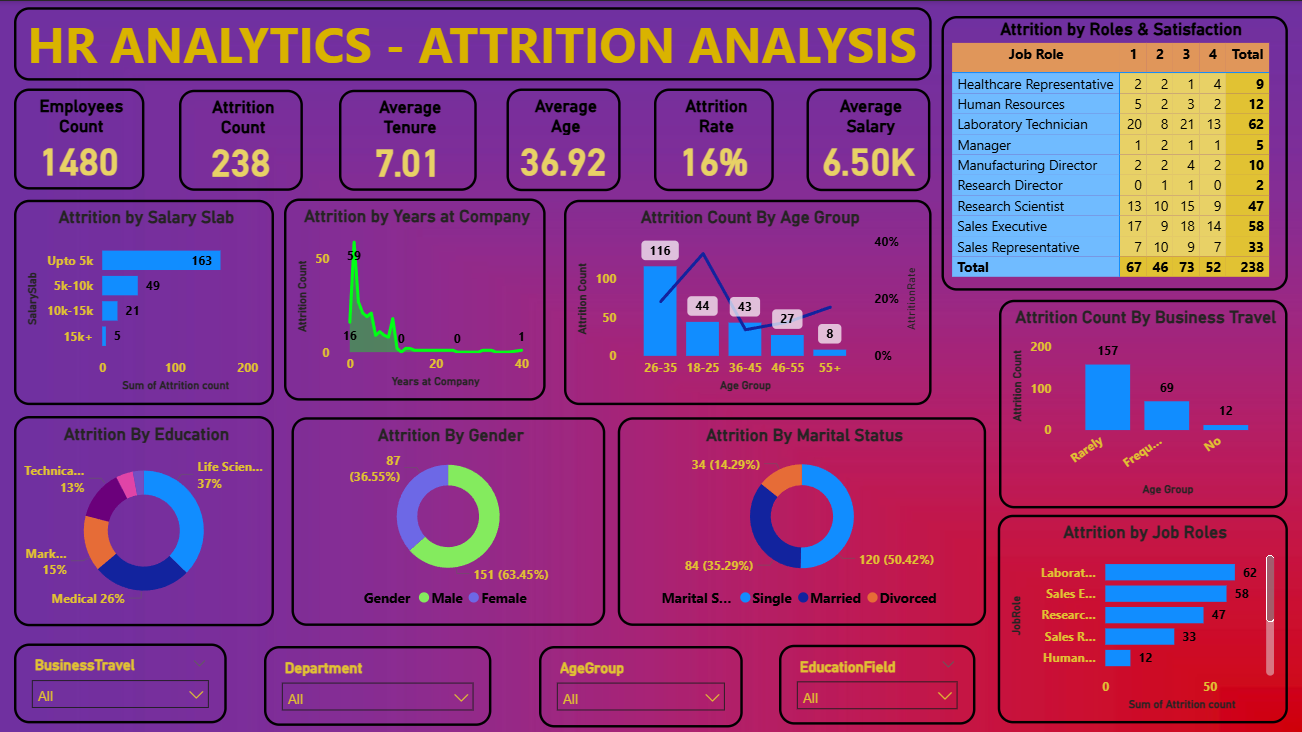

The dashboard page shown, as its layout file describes it:
{"tool":"powerbi","page":{"name":"Page 1","canvas":[1280,720],"ordinal":0},"visuals":[{"type":"card","title":"Employees Count","fields":{"Values":["CountNonNull(HR_Analytics.EmpID)"]},"box":[14.7,87.1,137.4,99.4],"z":0},{"type":"card","title":"Attrition Count","fields":{"Values":["Sum(HR_Analytics.Attrition count)"]},"box":[775.5,87.1,135,99.4],"z":1000},{"type":"card","title":"Attrition Rate","fields":{"Values":["HR_Analytics.AttritionRate"]},"box":[627,85.9,133.7,103.1],"z":2000},{"type":"card","title":"Average Age","fields":{"Values":["Avg(HR_Analytics.Age)"]},"box":[469.9,85.9,137.4,100.6],"z":3000},{"type":"card","title":"Average Salary","fields":{"Values":["Avg(HR_Analytics.MonthlyIncome)"]},"box":[169.3,85.9,136.2,103.1],"z":4000},{"type":"card","title":"Average Tenure","fields":{"Values":["Avg(HR_Analytics.YearsAtCompany)"]},"box":[319,87.1,135,99.4],"z":5000},{"type":"donutChart","title":" Attrition By Education","fields":{"Y":["Sum(HR_Analytics.Attrition count)"],"Category":["HR_Analytics.EducationField"]},"box":[14.7,407.4,267.5,204.9],"z":6000},{"type":"donutChart","title":" Attrition By Gender","fields":{"Category":["HR_Analytics.Gender"],"Y":["Sum(HR_Analytics.Attrition count)"]},"box":[290.8,408.6,308,204.9],"z":7000},{"type":"textbox","box":[3.7,6.1,911.7,72.4],"z":8000},{"type":"lineStackedColumnComboChart","title":"Attrition Count By Age Group","fields":{"Category":["HR_Analytics.AgeGroup"],"Y":["Sum(HR_Analytics.Attrition count)"],"Y2":["HR_Analytics.AttritionRate"]},"box":[549.7,195.1,360.7,201.2],"z":9000},{"type":"pivotTable","title":"Attrition by Roles & Satisfaction","fields":{"Columns":["HR_Analytics.JobSatisfaction"],"Values":["Sum(HR_Analytics.Attrition count)"],"Rows":["HR_Analytics.JobRole"]},"box":[925.2,14.7,339.9,269.9],"z":10000},{"type":"barChart","title":"Attrition by Salary Slab","fields":{"Y":["Sum(HR_Analytics.Attrition count)"],"Category":["HR_Analytics.SalarySlab"]},"box":[14.7,195.1,255.2,201.2],"z":11000},{"type":"areaChart","title":"Attrition by Years at Company","fields":{"Y":["Sum(HR_Analytics.Attrition count)"],"Category":["HR_Analytics.YearsAtCompany"]},"box":[279.8,193.9,256.4,198.8],"z":12000},{"type":"barChart","title":"Attrition by Job Roles","fields":{"Y":["Sum(HR_Analytics.Attrition count)"],"Category":["HR_Analytics.JobRole"]},"box":[980.4,504.3,284.7,204.9],"z":13000},{"type":"donutChart","title":" Attrition By Gender","fields":{"Y":["Sum(HR_Analytics.Attrition count)"],"Category":["HR_Analytics.EducationField"]},"box":[607.4,408.6,362,204.9],"z":14000},{"type":"columnChart","title":"Attrition Count By Business Travel","fields":{"Y":["Sum(HR_Analytics.Attrition count)"],"Category":["HR_Analytics.BusinessTravel"]},"box":[981.6,293.3,283.4,204.9],"z":15000},{"type":"slicer","fields":{"Values":["HR_Analytics.AgeGroup"]},"box":[530.1,633.1,200,79.8],"z":16000},{"type":"slicer","fields":{"Values":["HR_Analytics.BusinessTravel"]},"box":[14.7,630.7,208.6,78.5],"z":17000},{"type":"slicer","fields":{"Values":["HR_Analytics.Department"]},"box":[260.1,633.1,223.3,78.5],"z":18000},{"type":"slicer","fields":{"Values":["HR_Analytics.EducationField"]},"box":[765.6,631.9,192.6,78.5],"z":19000}]}

Visuals, with their boxes in screenshot pixels (x1, y1, x2, y2), scaled from the page's 1280x720 canvas onto the 1302x732 screenshot:
"Employees Count" card: rect(15, 89, 155, 190)
"Attrition Count" card: rect(789, 89, 926, 190)
"Attrition Rate" card: rect(638, 87, 774, 192)
"Average Age" card: rect(478, 87, 618, 190)
"Average Salary" card: rect(172, 87, 311, 192)
"Average Tenure" card: rect(324, 89, 462, 190)
" Attrition By Education" donutChart: rect(15, 414, 287, 623)
" Attrition By Gender" donutChart: rect(296, 415, 609, 624)
textbox: rect(4, 6, 931, 80)
"Attrition Count By Age Group" lineStackedColumnComboChart: rect(559, 198, 926, 403)
"Attrition by Roles & Satisfaction" pivotTable: rect(941, 15, 1287, 289)
"Attrition by Salary Slab" barChart: rect(15, 198, 275, 403)
"Attrition by Years at Company" areaChart: rect(285, 197, 545, 399)
"Attrition by Job Roles" barChart: rect(997, 513, 1287, 721)
" Attrition By Gender" donutChart: rect(618, 415, 986, 624)
"Attrition Count By Business Travel" columnChart: rect(998, 298, 1287, 507)
slicer - HR_Analytics.AgeGroup: rect(539, 644, 743, 725)
slicer - HR_Analytics.BusinessTravel: rect(15, 641, 227, 721)
slicer - HR_Analytics.Department: rect(265, 644, 492, 723)
slicer - HR_Analytics.EducationField: rect(779, 642, 975, 722)
